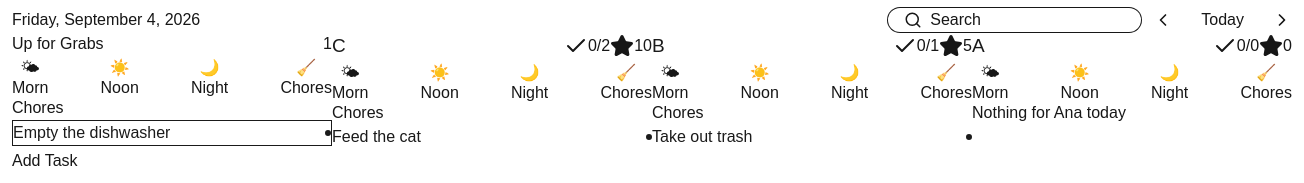
Test: the search box (T069, FR-386, SC-320) › restores every card when it is cleared, counters still unmoved (SC-320)
Type "trash" into the search field named "Search tasks" at [1034, 20], box [930,8,1137,32]
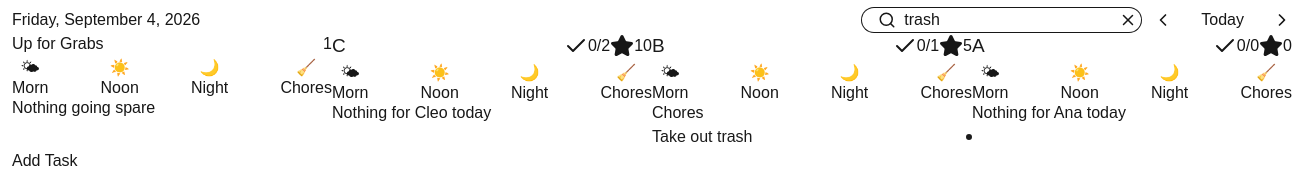
Click the button named "Clear search" at [1128, 20], box [1119,11,1137,29]
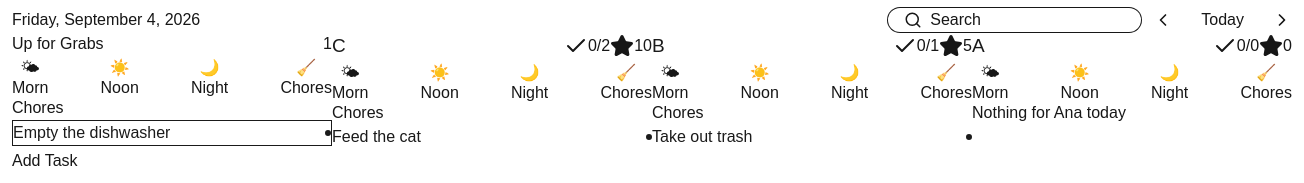
Expected: the search field named "Search tasks" is empty, [930,8,1137,32]
Expected: the text "Feed the cat" is shown, [332,124,421,148]
Expected: the text "Empty the dishwasher" is shown, [13,121,170,145]
